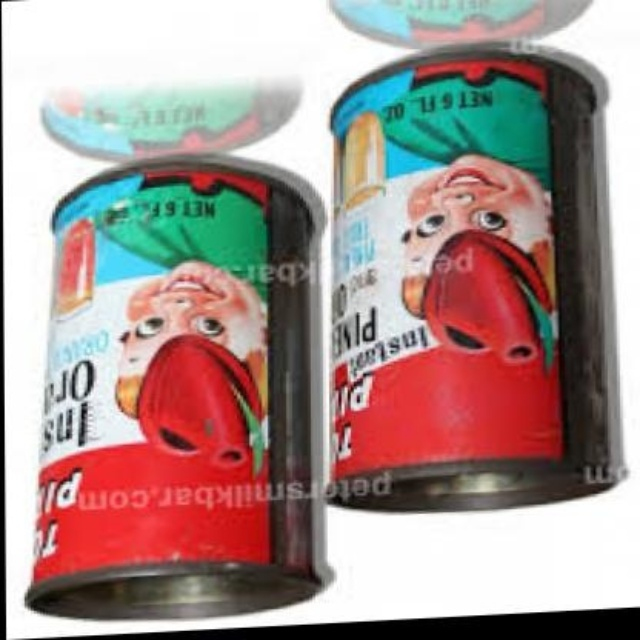trash: (28, 157, 320, 617), (331, 49, 620, 508), (331, 0, 589, 46)
